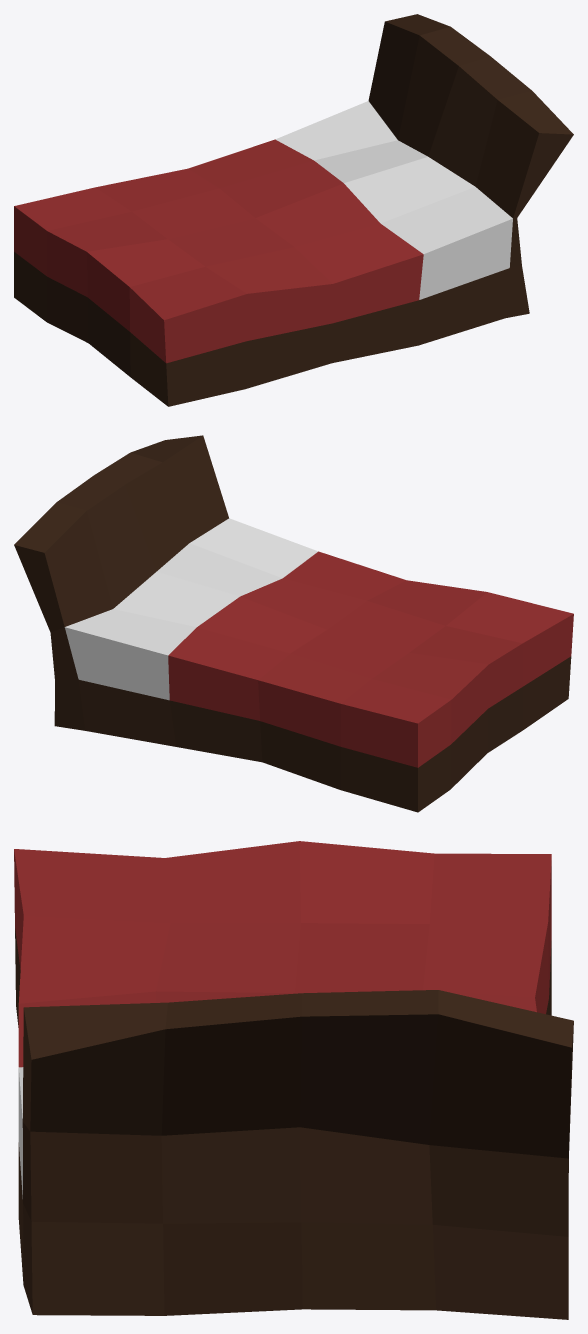
Rendered from Bed_Red.fbx.
The picture shows the model from 3 angles, top to bottom: view 1: azimuth 30°, elevation 25°; view 2: azimuth 150°, elevation 25°; view 3: azimuth 270°, elevation 25°; orthographic projection. The views are drawn at different scales.
Parts seen in each view (by area): view 1: Bed Red; view 2: Bed Red; view 3: Bed Red.
Boxes of the visible parts, x1=… form: Bed Red: x1=14, y1=14, x2=573, y2=406; Bed Red: x1=14, y1=435, x2=573, y2=812; Bed Red: x1=14, y1=841, x2=573, y2=1319.
Size of the model in its own units: 239 by 108 by 161.
